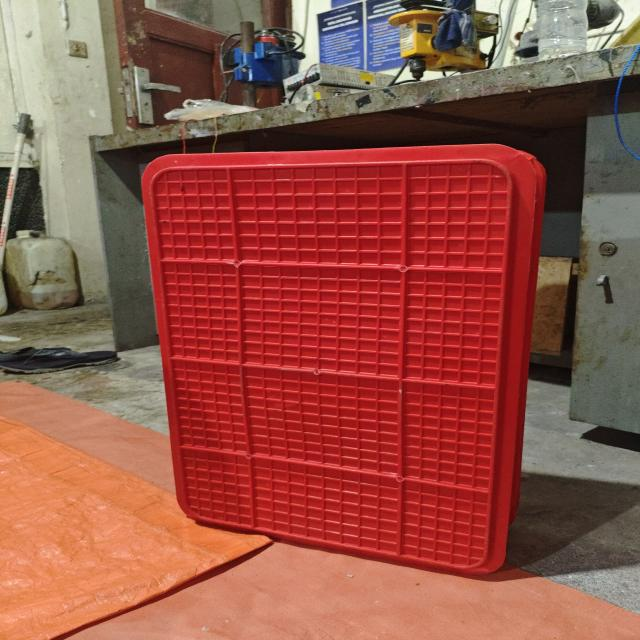red plastic box: (141, 143, 547, 575)
